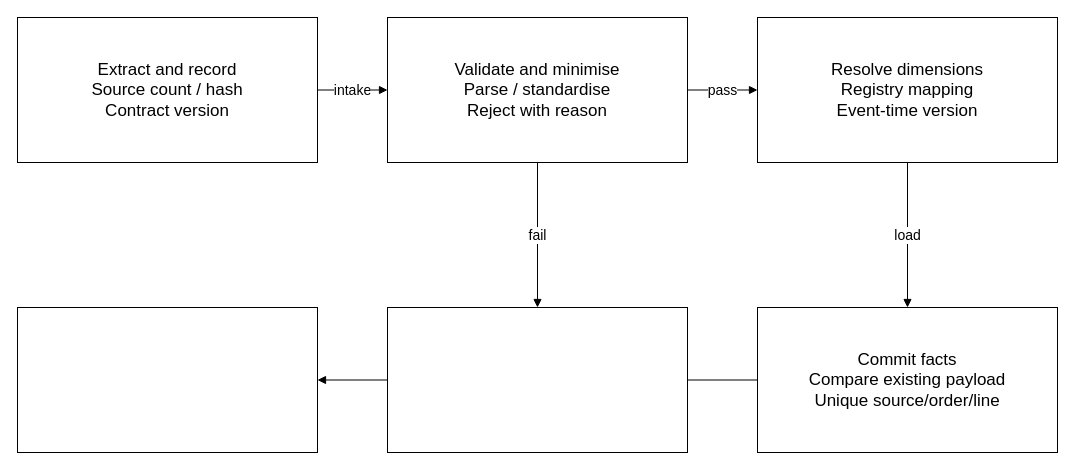
The diagram is 1075 pixels wide and 470 high, and some of its shapes have lost their labels. The centre of each missing label's shape, as x and y in pixels:
"Certify totals Expected-file checklist Advance watermark" goes at pixel 167 379.
"Review queue Owner and due date Correct then replay" goes at pixel 537 379.
